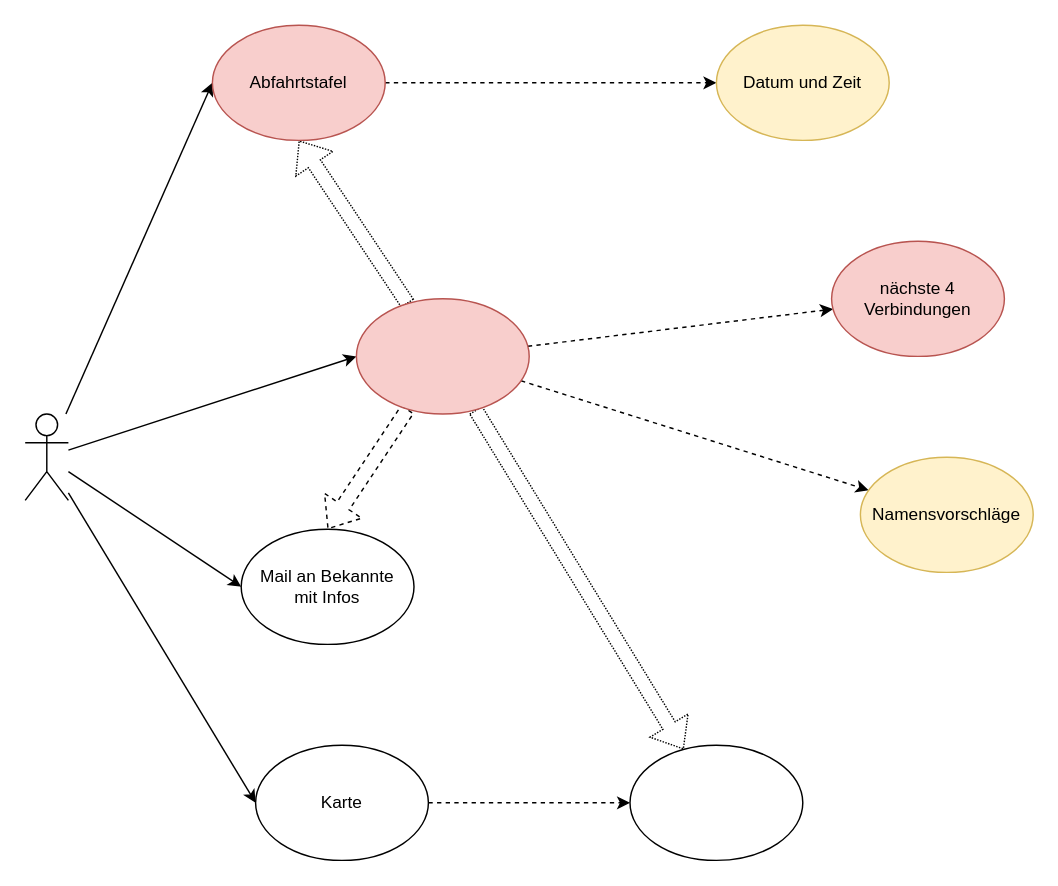
Image size: 1058x886. Some labels were removed from this diagram. The shapes that lost their labels are listed below. From the top down, each one's centre as x and y in pixels, then its label:
At (x=442, y=355): "Start- und Endpunkt".
At (x=46, y=456): "Actor".
At (x=716, y=802): "aktueller Standort aller Stationen".
